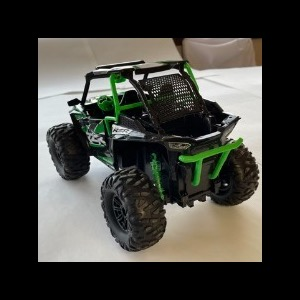polaris: (46, 58, 260, 253)
